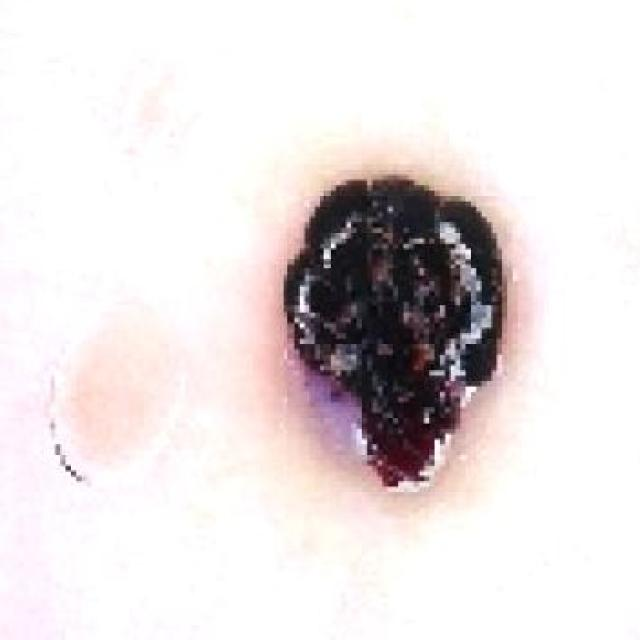VASC: (198, 72, 513, 548)
